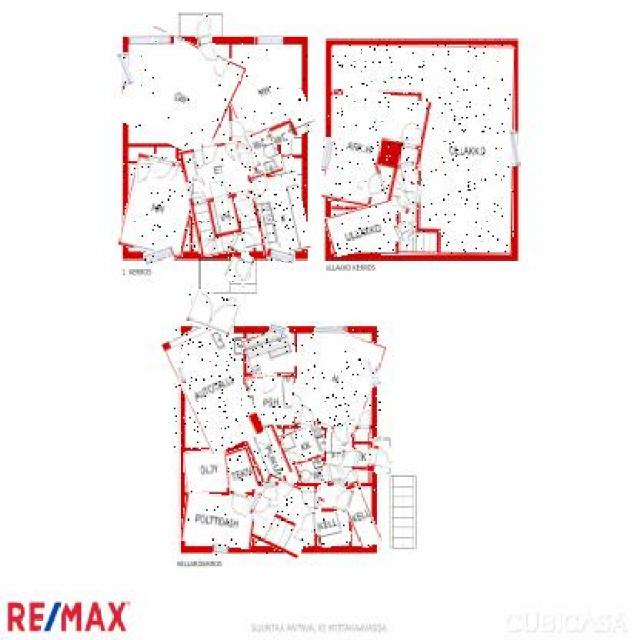door: (189, 292, 237, 332), (197, 15, 215, 66), (228, 252, 252, 283), (248, 495, 277, 520), (360, 167, 383, 196), (369, 444, 391, 474), (226, 492, 248, 517), (324, 460, 344, 486), (155, 160, 174, 185), (297, 403, 315, 428), (265, 480, 283, 505), (400, 160, 417, 185), (135, 163, 154, 185), (229, 234, 248, 255), (335, 488, 354, 508), (252, 174, 271, 194), (340, 448, 360, 466), (300, 489, 318, 509), (394, 222, 412, 242), (212, 178, 230, 198), (235, 197, 252, 217), (203, 145, 219, 166), (240, 152, 255, 174), (355, 409, 371, 429), (402, 186, 422, 202), (334, 428, 351, 446), (301, 512, 317, 531), (228, 120, 245, 137), (400, 120, 414, 140), (236, 143, 250, 163), (265, 374, 277, 395), (192, 177, 205, 195), (346, 471, 359, 486), (190, 177, 202, 188)
window: (144, 248, 174, 264), (128, 34, 174, 44), (323, 138, 335, 171), (268, 248, 295, 262), (120, 52, 131, 86), (317, 323, 348, 334), (511, 131, 518, 166), (369, 360, 378, 386), (254, 37, 283, 45), (271, 323, 286, 335), (214, 545, 229, 557), (178, 366, 184, 383)
zone: (332, 46, 514, 255), (120, 35, 240, 151), (328, 91, 426, 212), (174, 323, 252, 451), (291, 328, 380, 432), (223, 43, 309, 149), (185, 142, 257, 256), (123, 155, 197, 257), (249, 156, 306, 256), (248, 480, 318, 554), (182, 492, 256, 548), (328, 204, 398, 253), (326, 428, 372, 483), (243, 330, 297, 376), (246, 374, 294, 424), (249, 426, 289, 482), (345, 483, 377, 546), (185, 450, 228, 492), (282, 425, 326, 460), (228, 448, 257, 492), (314, 511, 349, 546), (254, 128, 280, 175), (315, 483, 351, 509), (296, 457, 326, 481), (371, 437, 391, 469), (280, 460, 300, 485), (356, 444, 372, 464), (356, 428, 372, 443)
